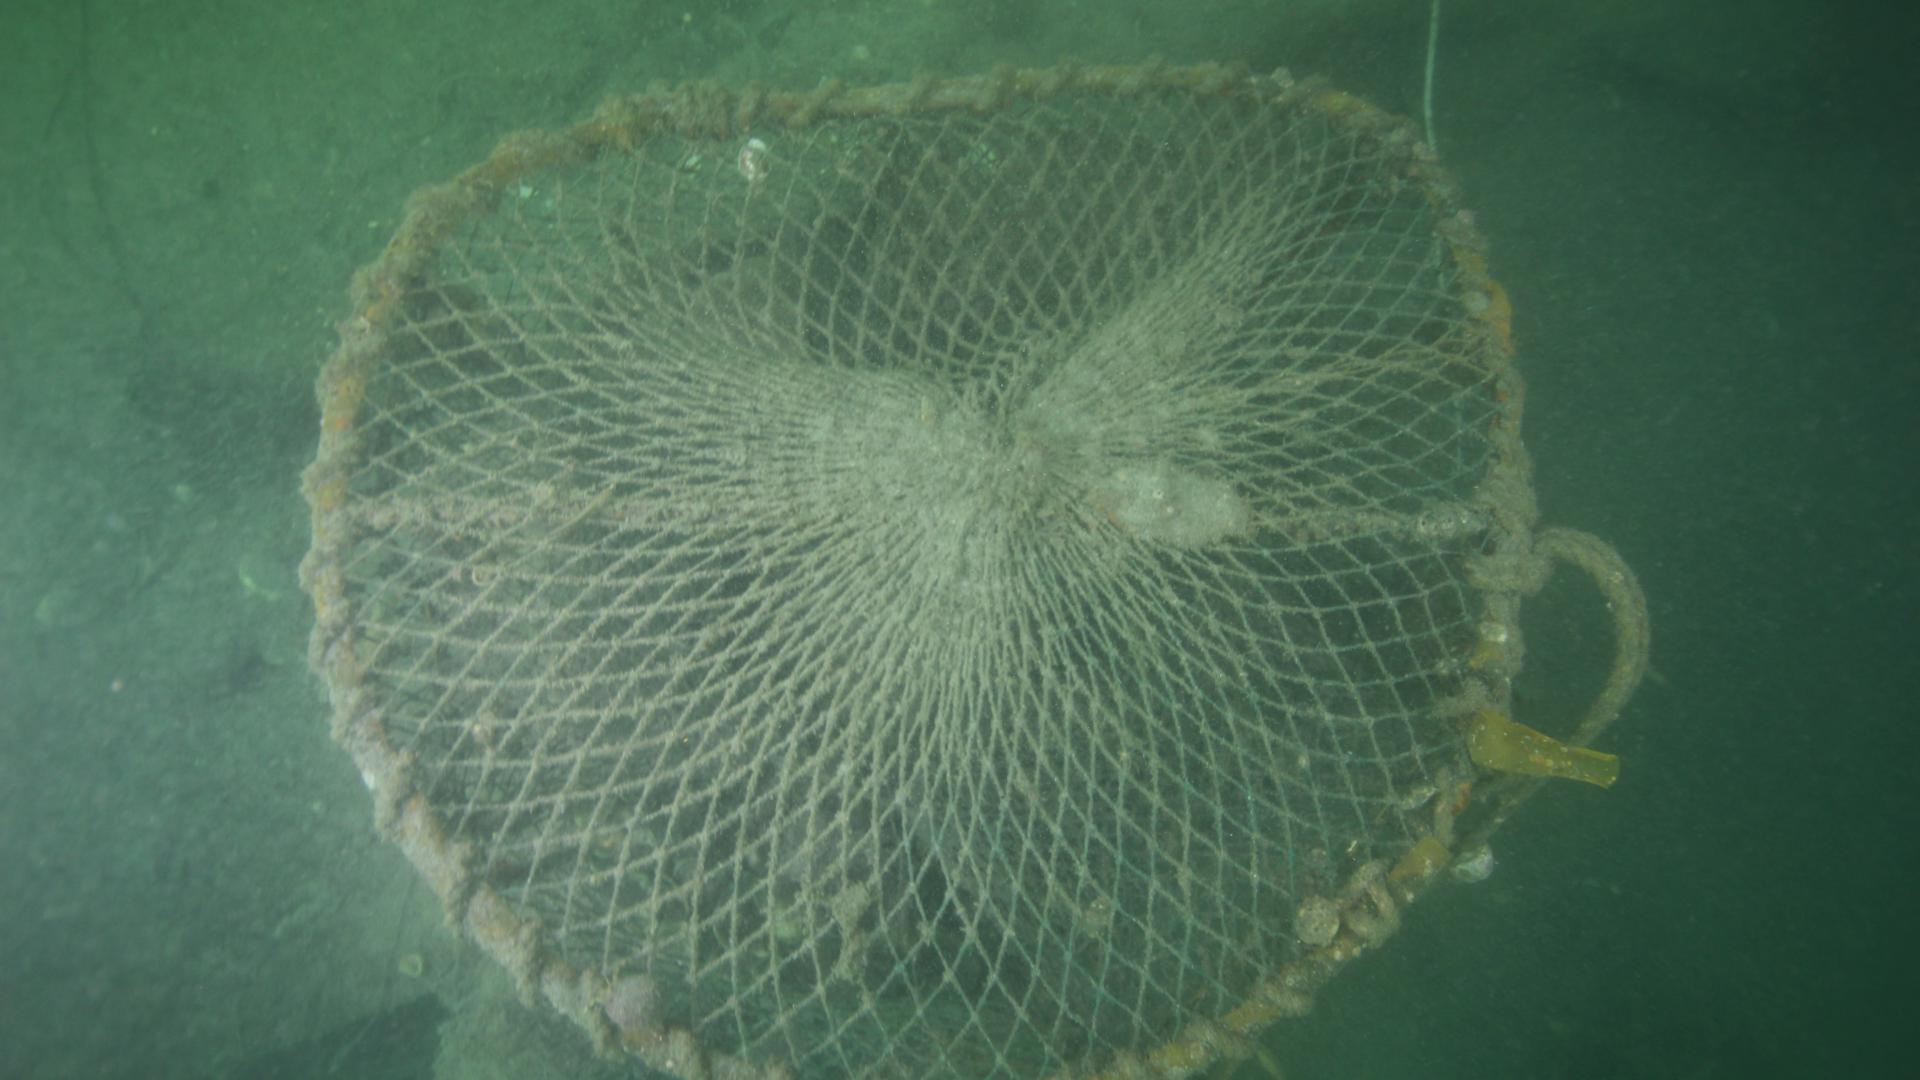circular fish trap: (295, 61, 1542, 1080)
rope: (1547, 525, 1668, 804)
